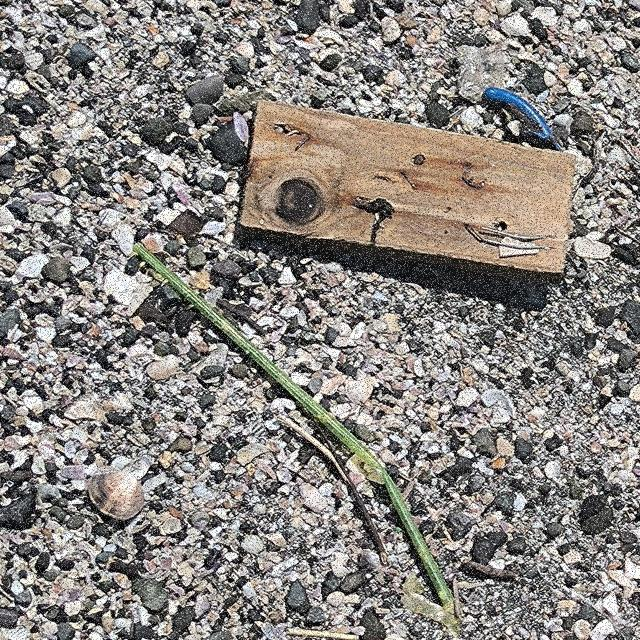plastic_waste: (132, 242, 458, 608)
wood_waste: (235, 99, 579, 287)
